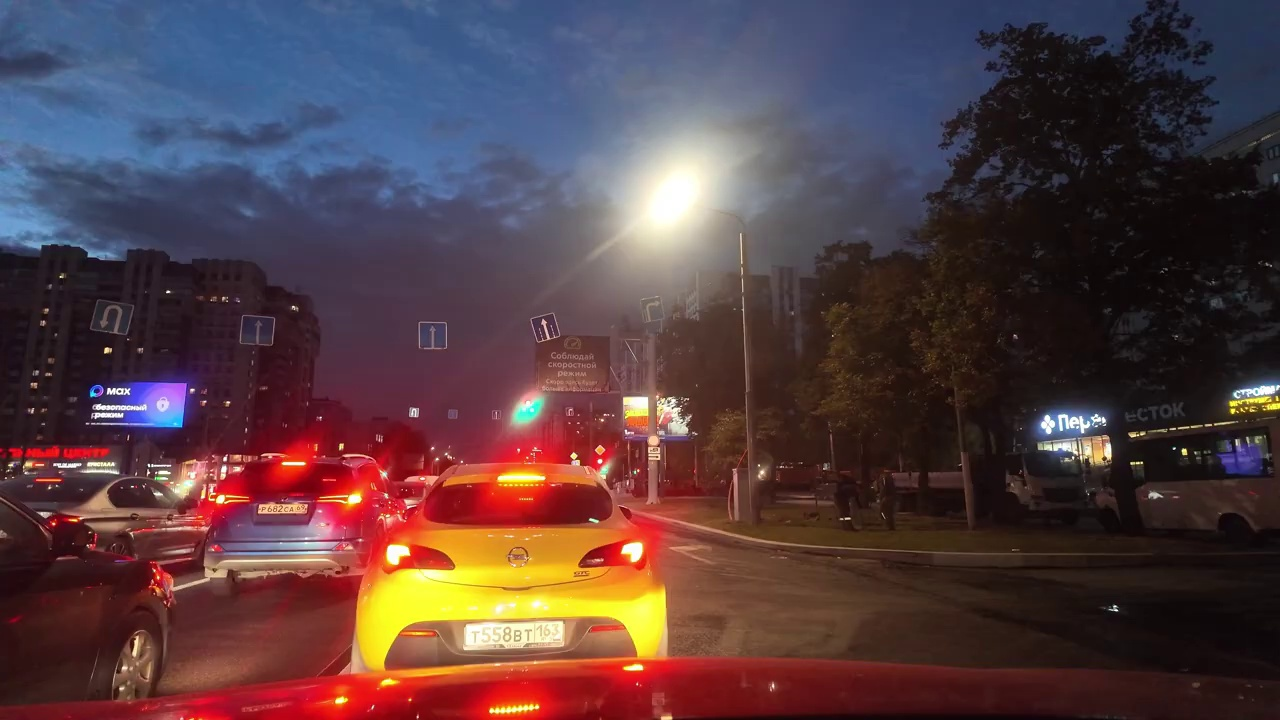acesa: (644, 164, 705, 232)
